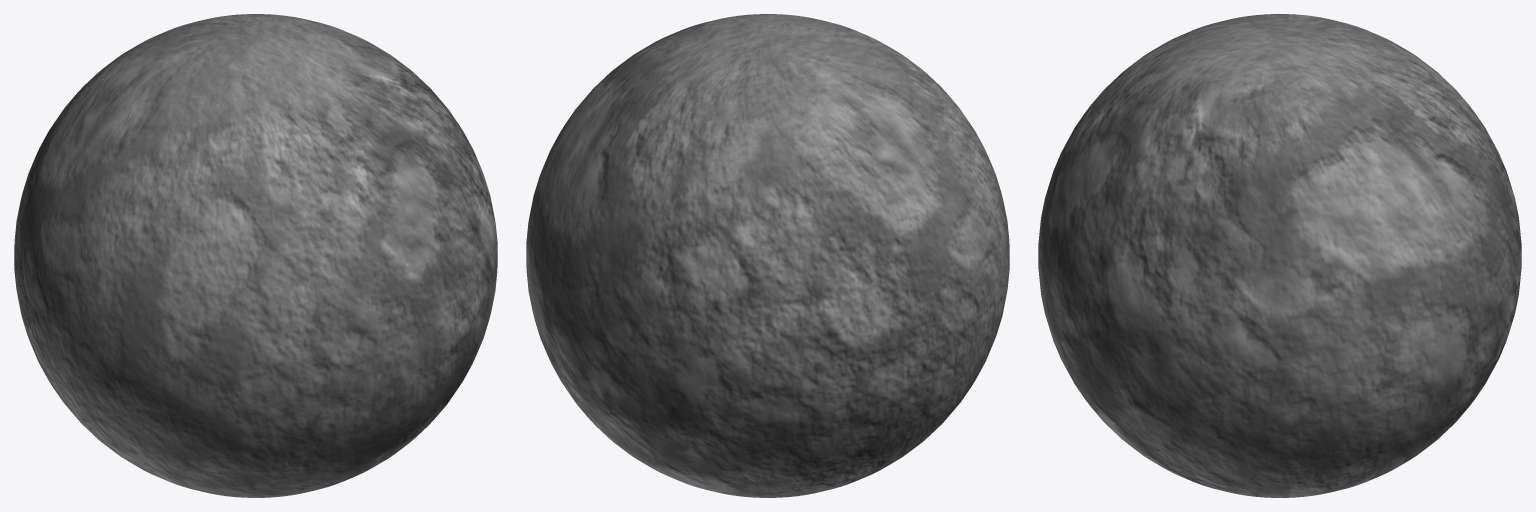
File: moon1.fbx
3 renders of one model, left to right at view 1: azimuth 30°, elevation 25°; view 2: azimuth 150°, elevation 25°; view 3: azimuth 270°, elevation 25°, orthographic.
Parts seen in each view (by area): view 1: planet; view 2: planet; view 3: planet.
Boxes of the visible parts, x1,y1,x2,y2 form: planet: (14, 14, 497, 497); planet: (526, 14, 1009, 497); planet: (1038, 14, 1521, 497).
Bounding box in the file's own units: 99.8 × 100 × 99.9.
Materials: 1 (1 with a texture image).
